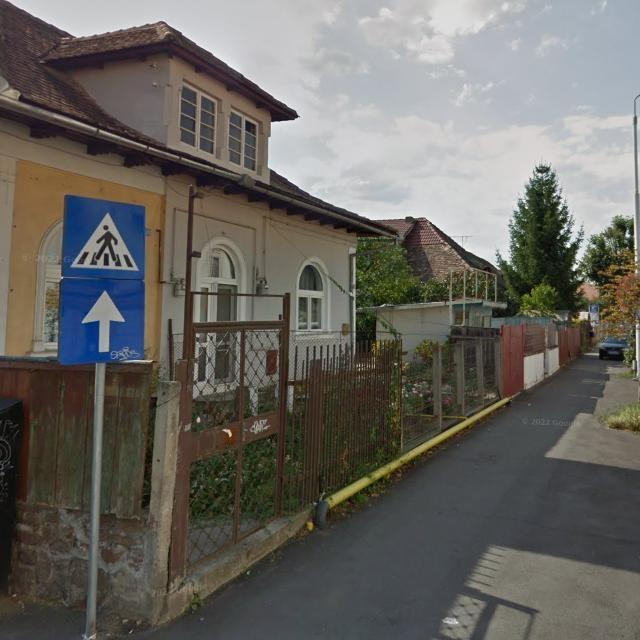info_crosswalk: (61, 195, 144, 280)
